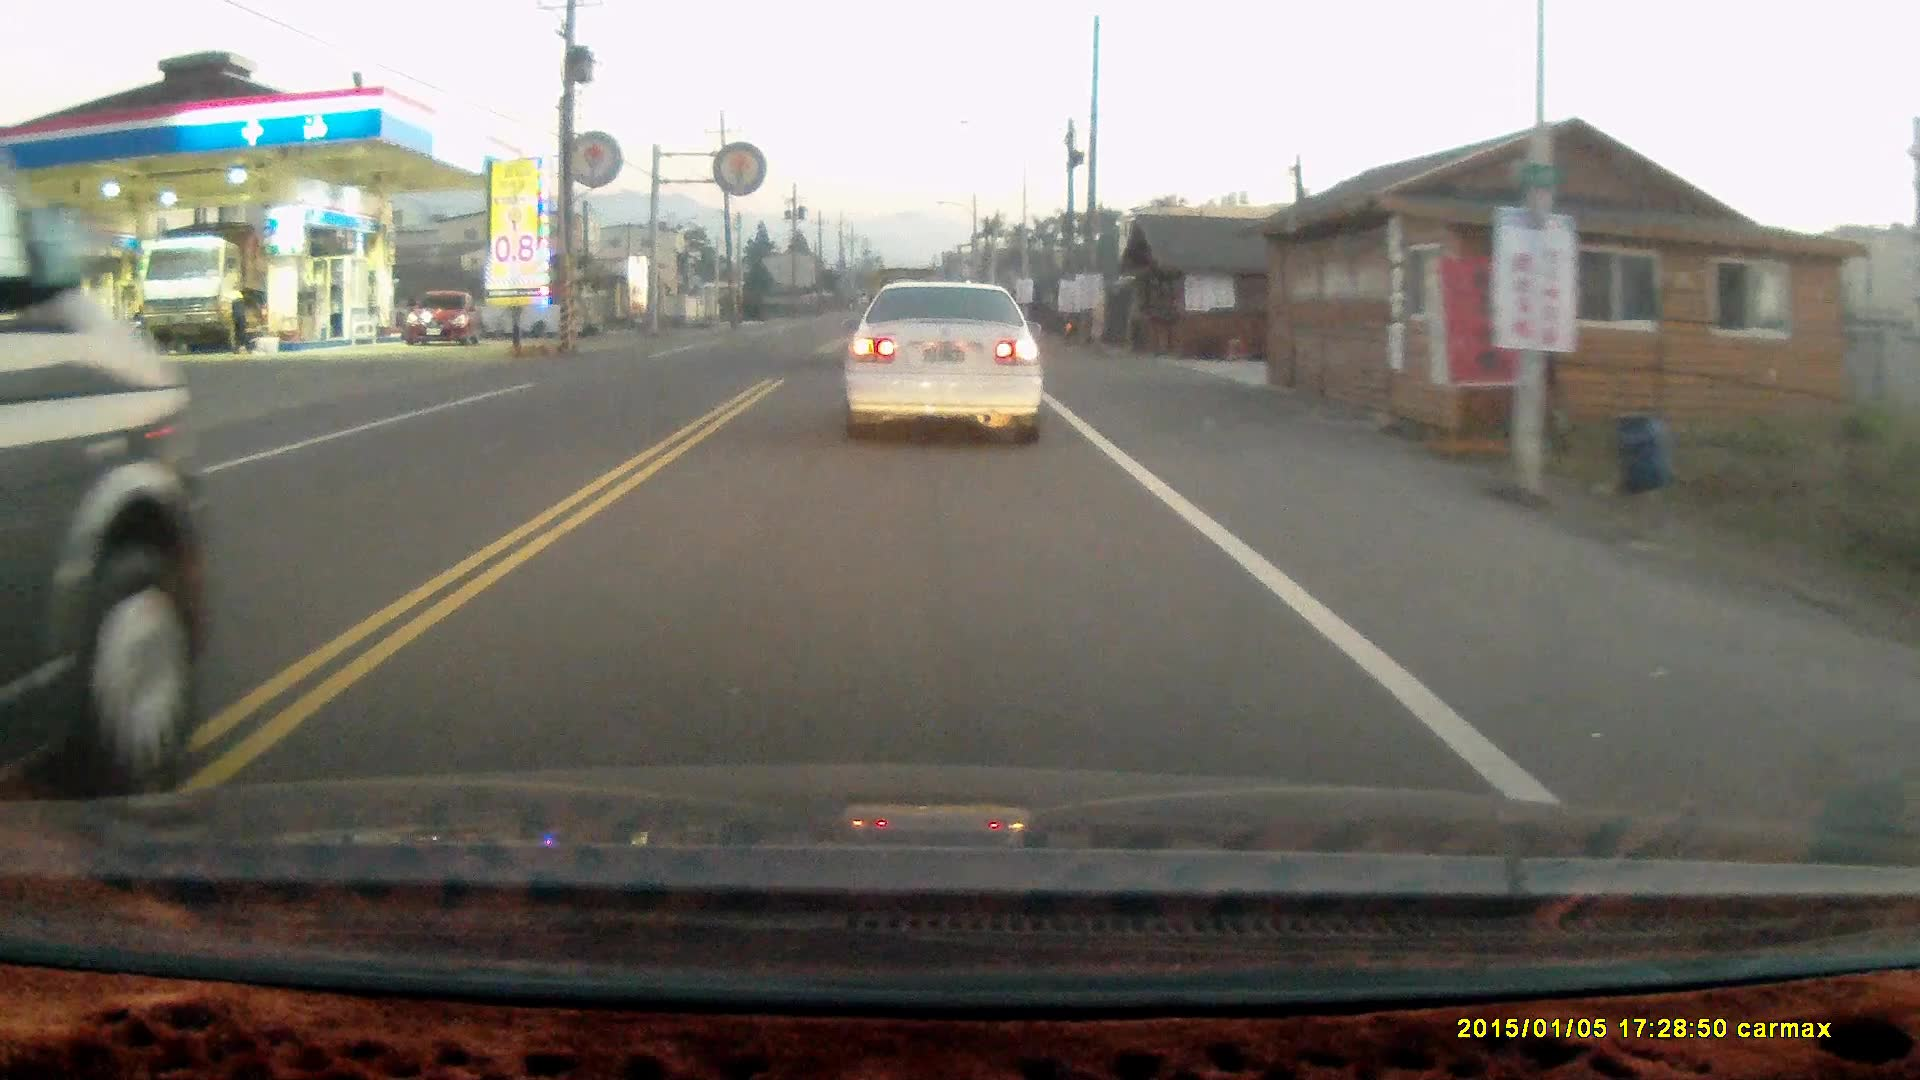pedestrian: (222, 281, 251, 355)
vehicle: (1, 167, 206, 809), (843, 280, 1049, 455), (138, 231, 264, 359), (404, 294, 484, 347)
